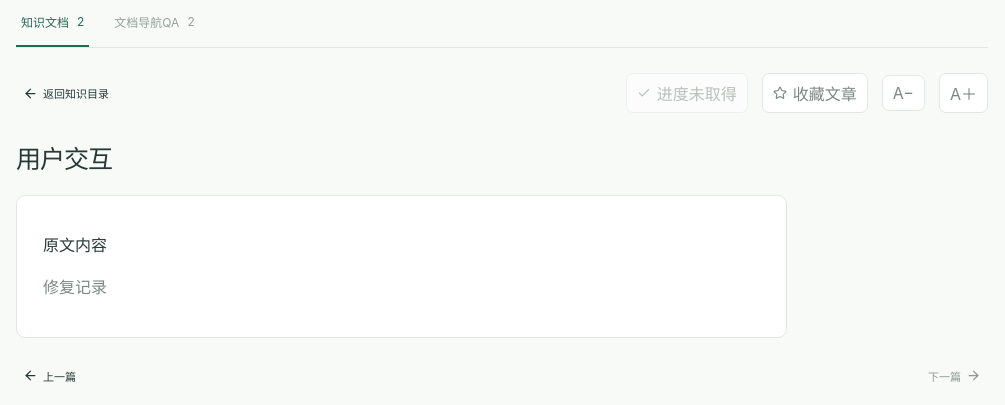
Test: ends knowledge pagination at the last knowledge article
Expected: the text "原文内容" is shown, [43,235,107,255]
Expected: the heading "用户交互" is shown, [16,144,112,174]
Click the button "返回知识目录": click(66, 93) [16,80,116,106]
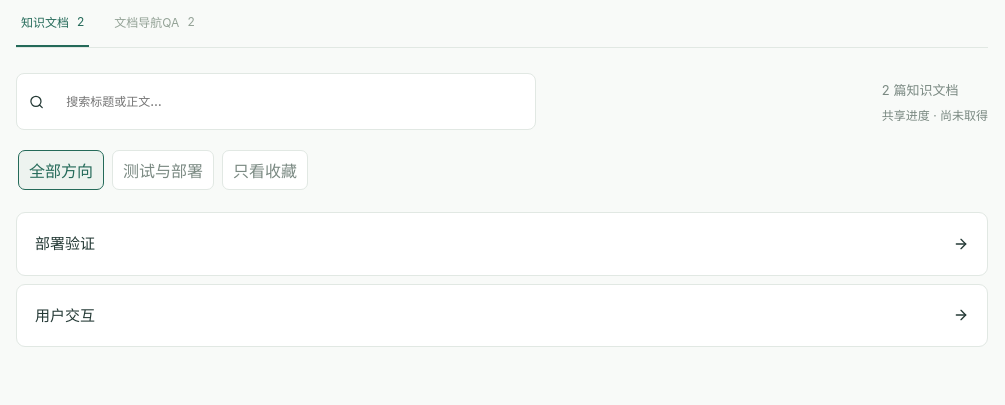
Now the button "部署验证" is shown, box [16,212,988,276]
